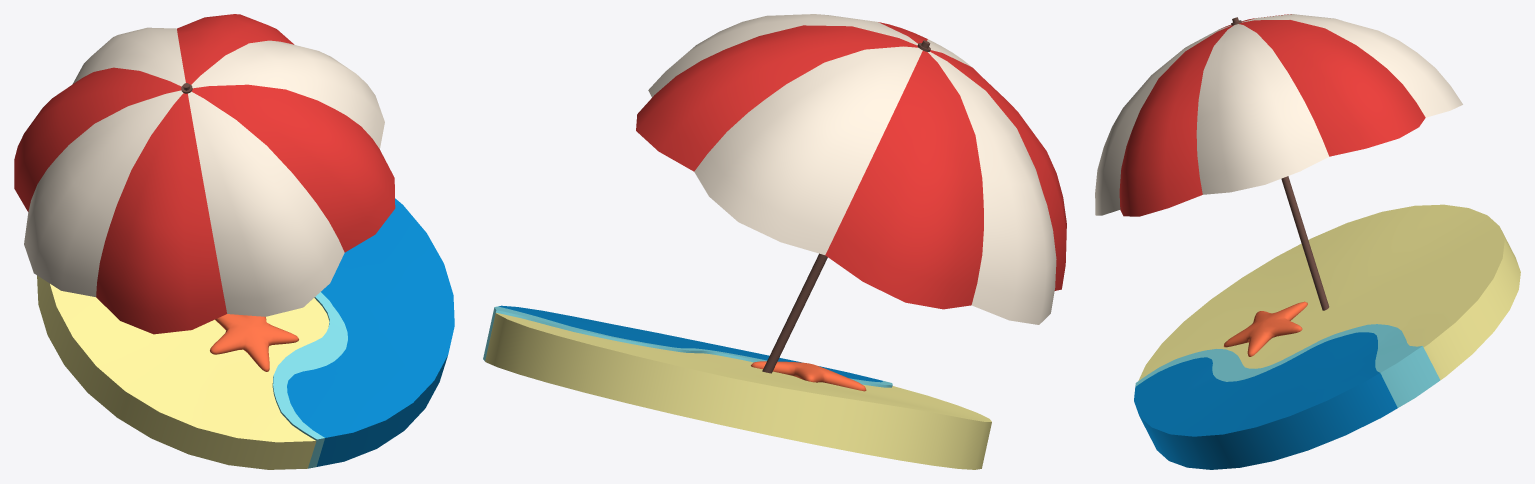
The model's file is beach_with_umbrella.glb.
3 views of the same model, side by side, from view 1: azimuth 30°, elevation 25°; view 2: azimuth 150°, elevation 25°; view 3: azimuth 270°, elevation 25° (orthographic). The views are drawn at different scales.
Visible parts, largest first — view 1: Circle.2331, Circle.2332, Circle.2333; view 2: Circle.2331, Circle.2332, Circle.2333; view 3: Circle.2332, Circle.2331, Circle.2333.
Part boxes in pixels (left/top/right/bottom): Circle.2331: left=14, top=14, right=395, bottom=334; Circle.2332: left=37, top=198, right=454, bottom=469; Circle.2333: left=210, top=314, right=298, bottom=371; Circle.2331: left=636, top=14, right=1066, bottom=373; Circle.2332: left=483, top=305, right=991, bottom=469; Circle.2333: left=751, top=361, right=866, bottom=391; Circle.2332: left=1134, top=204, right=1520, bottom=469; Circle.2331: left=1095, top=14, right=1462, bottom=310; Circle.2333: left=1223, top=301, right=1307, bottom=356.
Bounding box in the file's own units: 2.15 × 1.93 × 1.99.
1 material, 1 textured.
